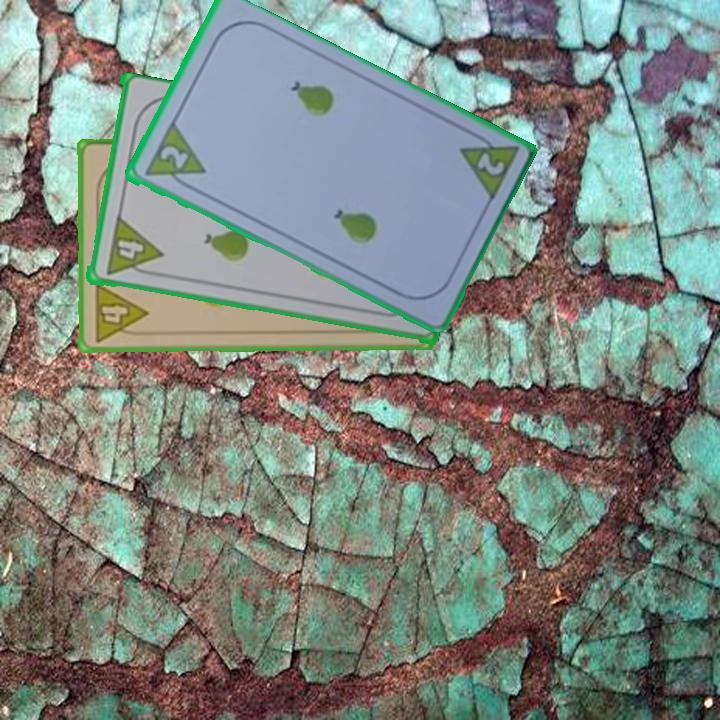2p: (155, 141, 191, 173), (472, 149, 507, 179)
4p: (102, 214, 164, 280), (90, 279, 150, 344)
